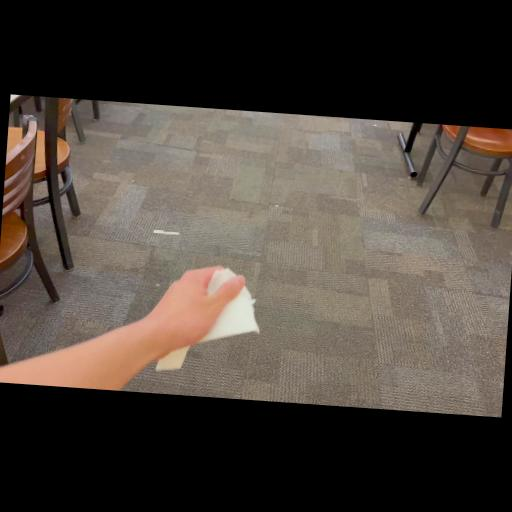napkin: (142, 260, 276, 392)
